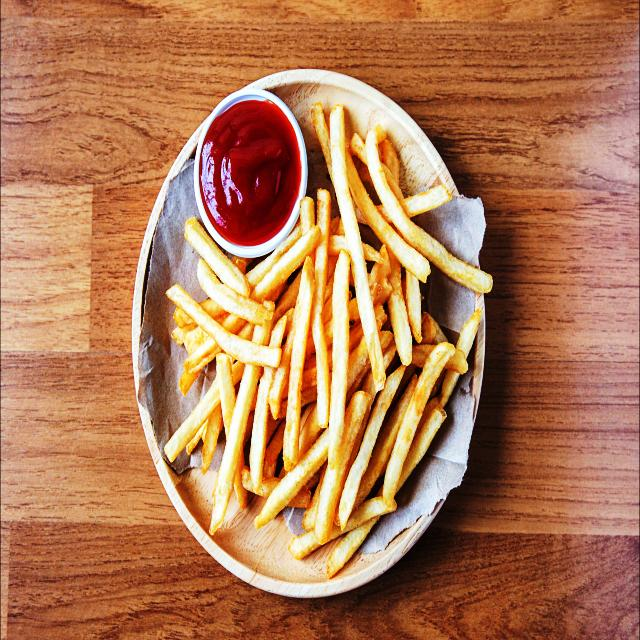french fries: (169, 109, 490, 575)
ketchup: (195, 95, 305, 254)
